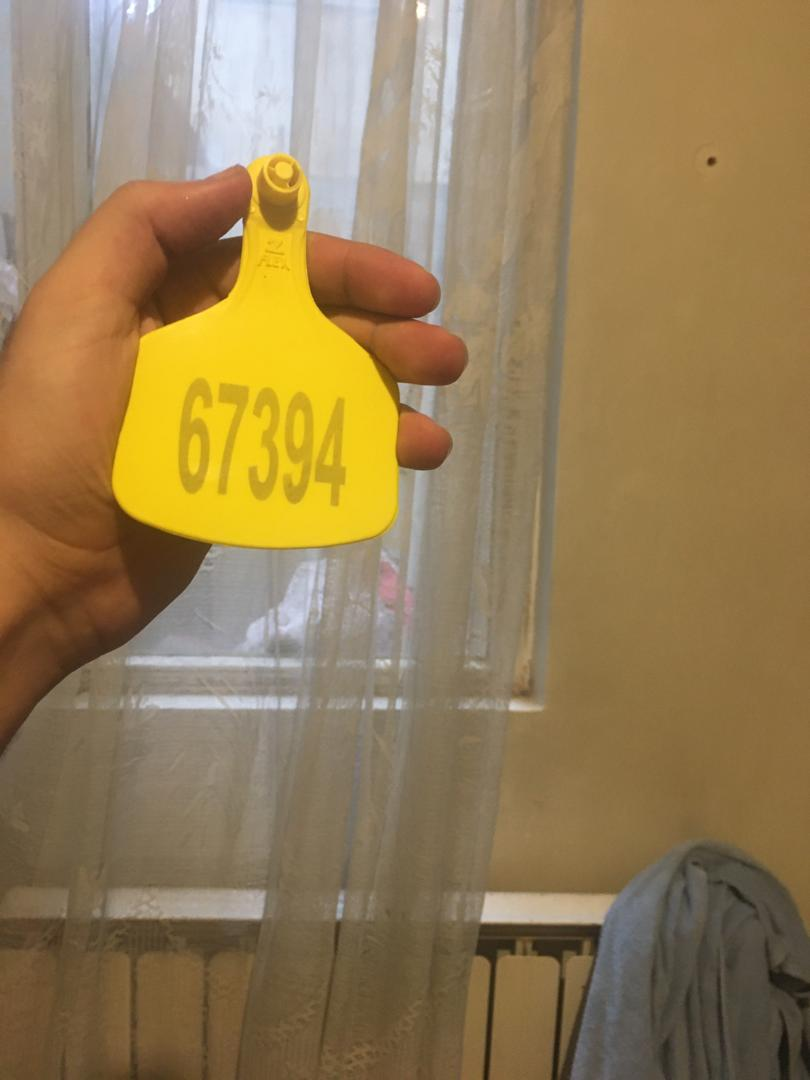digit: (178, 373, 351, 514)
